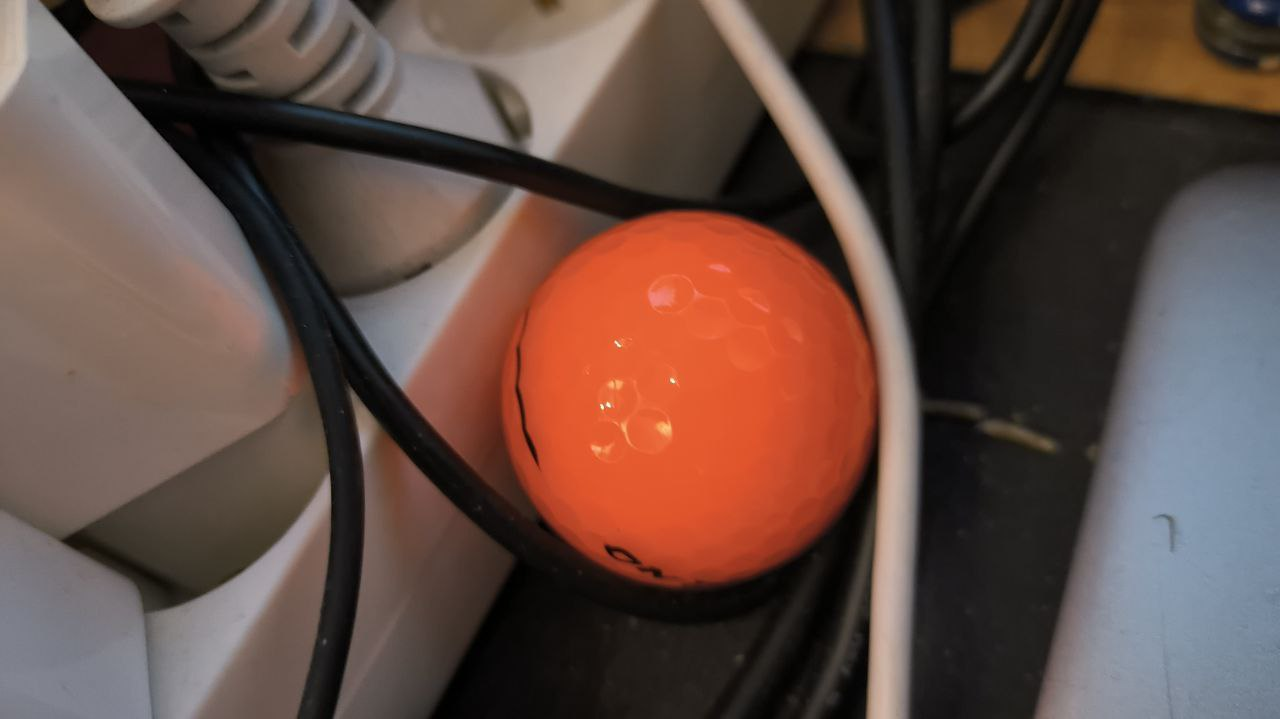orange_ball: (500, 211, 878, 589)
